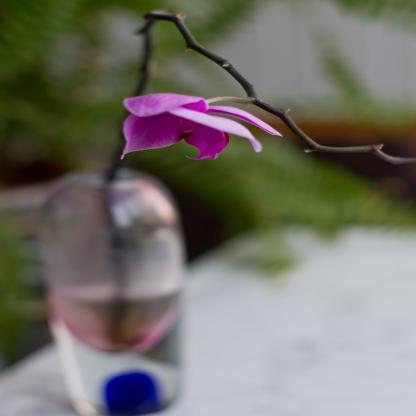vase: (41, 166, 188, 416)
